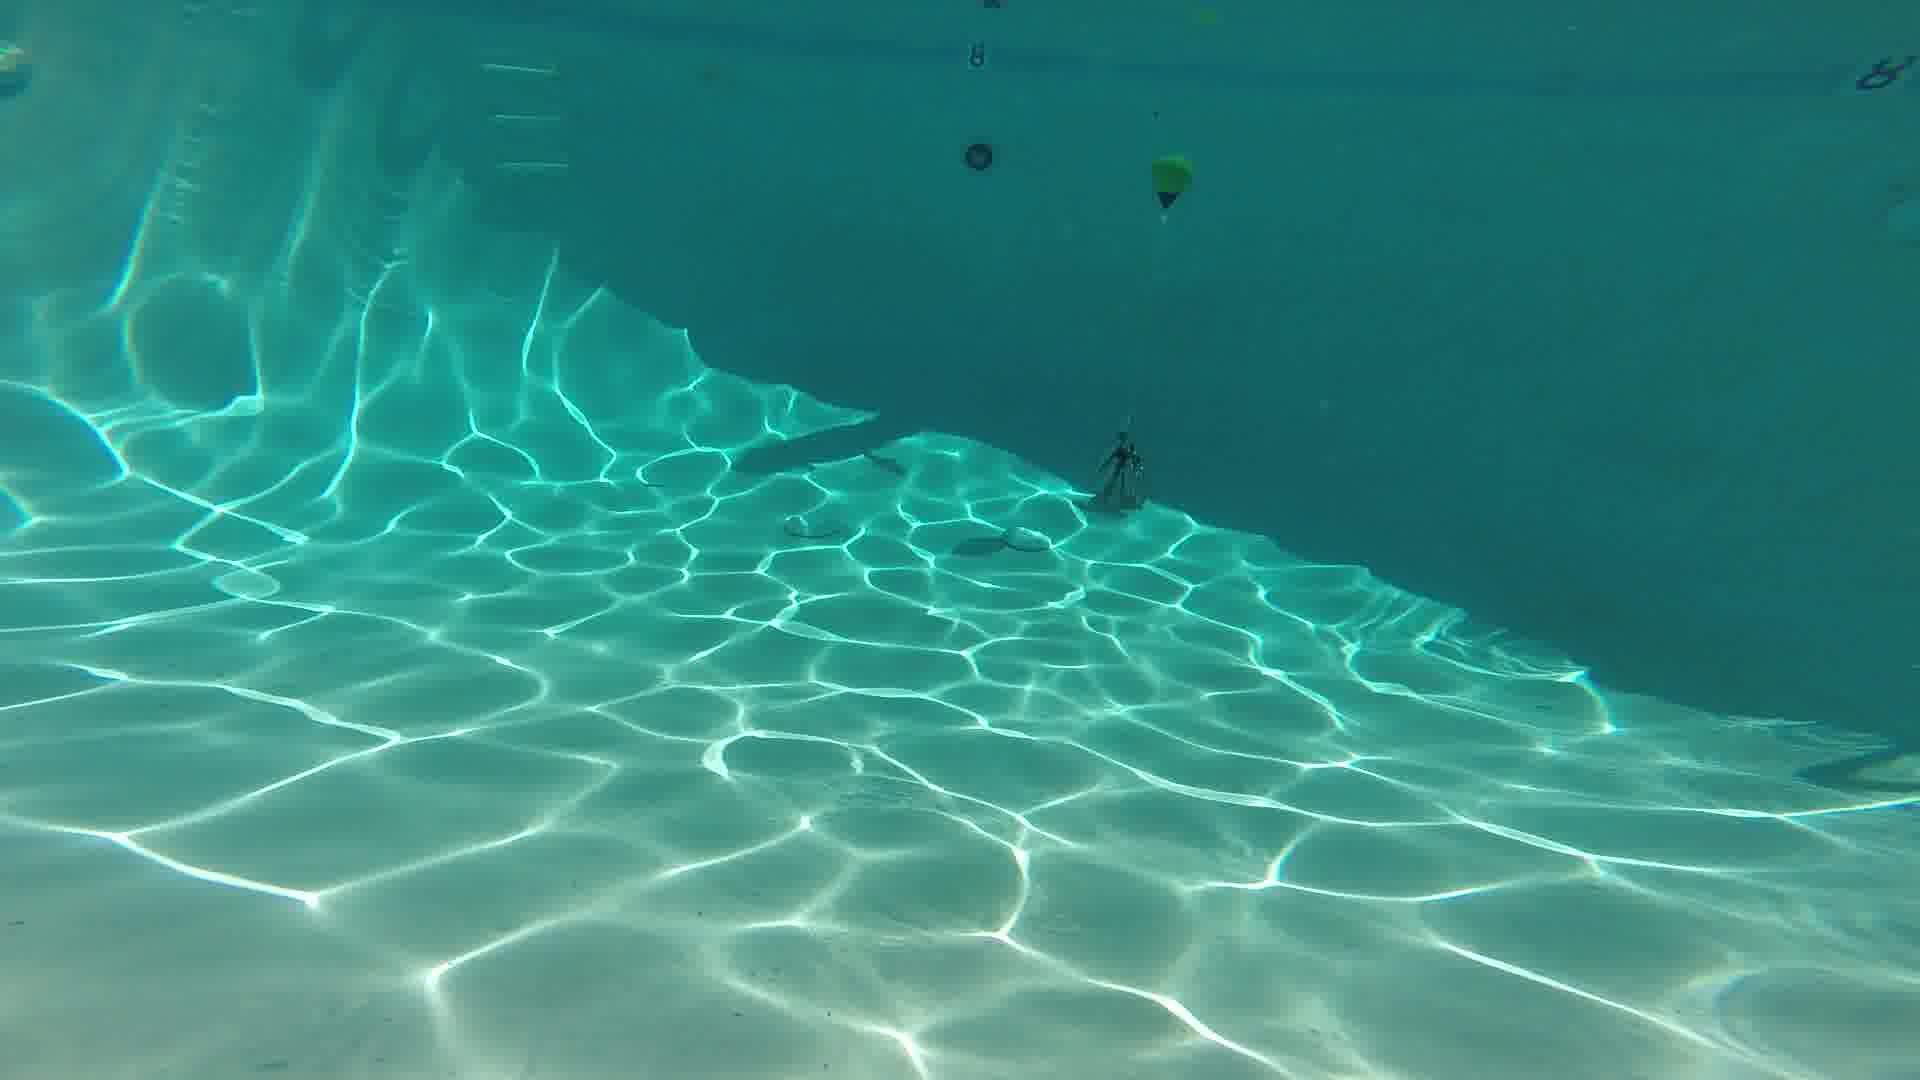yellow_buoy: (1150, 156, 1189, 210)
